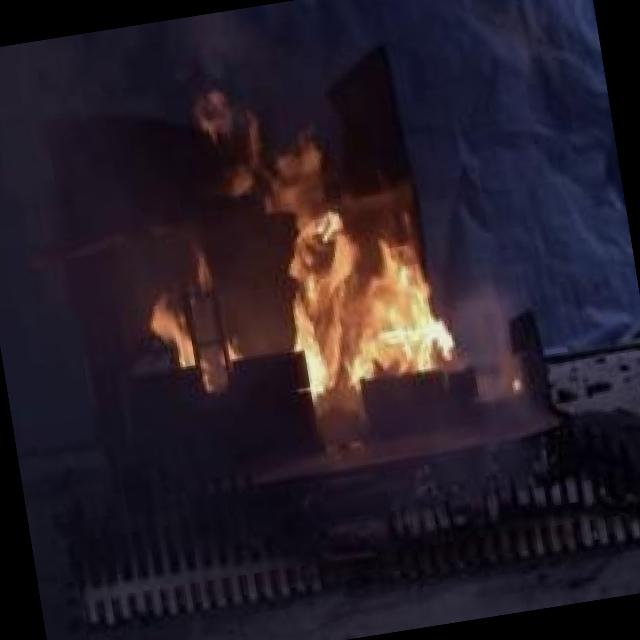fire: (200, 51, 476, 440)
